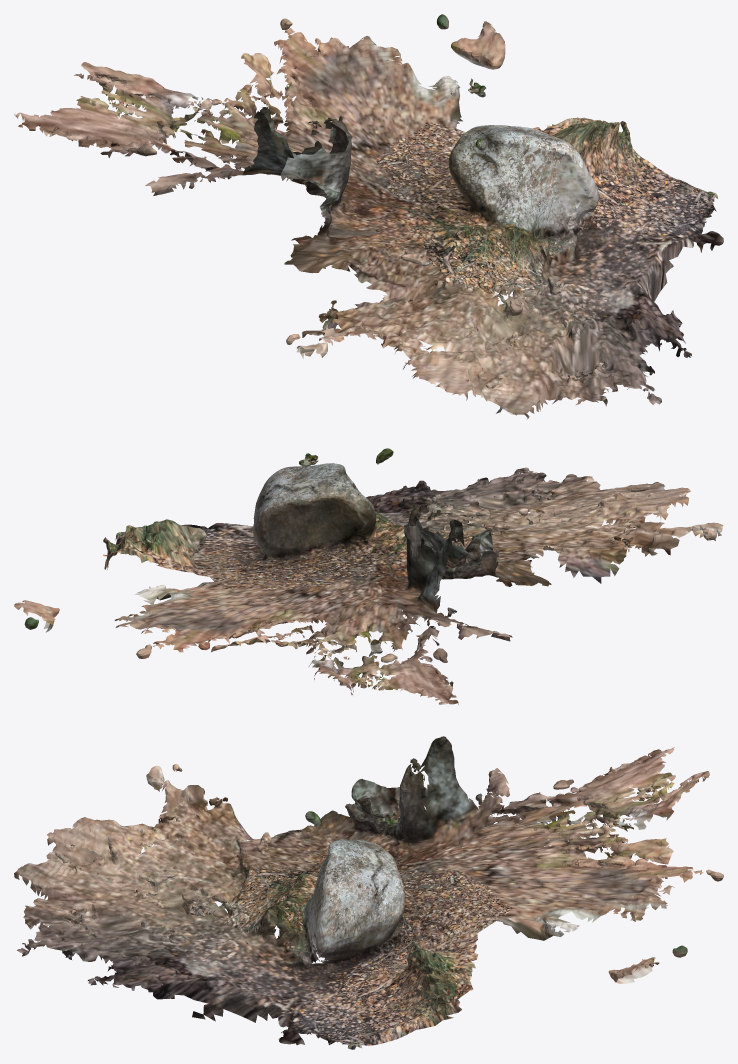
Rendered from metascan_20230505-1213.obj.
3 renders of one model, top to bottom at view 1: azimuth 30°, elevation 25°; view 2: azimuth 150°, elevation 25°; view 3: azimuth 270°, elevation 25°, orthographic. The views are drawn at different scales.
Visible parts, largest first — view 1: mesh_0; view 2: mesh_0; view 3: mesh_0.
Boxes of the visible parts, x1,y1,x2,y2 form: mesh_0: [14, 14, 723, 419]; mesh_0: [14, 448, 723, 704]; mesh_0: [14, 736, 723, 1049].
Size of the model in its own units: 5.21 by 1.81 by 6.72.
Materials: 1 (1 with a texture image).
